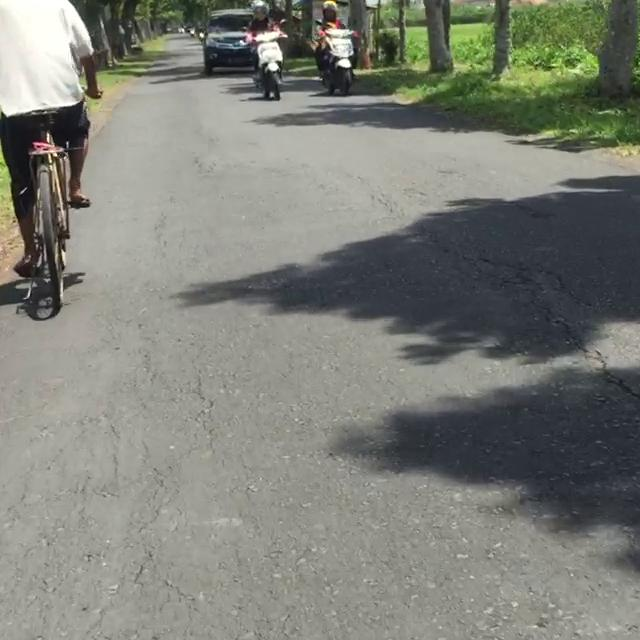retak_memanjang: (578, 368, 640, 577)
